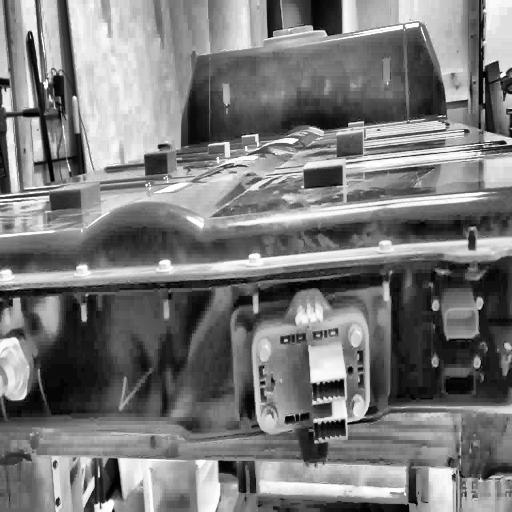b_casing: (0, 23, 512, 288)
nut: (155, 257, 174, 276), (71, 262, 92, 279), (0, 264, 16, 284), (245, 252, 264, 268), (376, 238, 394, 254)
